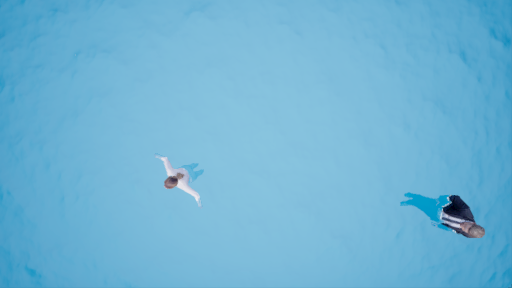person: (394, 189, 486, 247), (153, 155, 215, 206)
